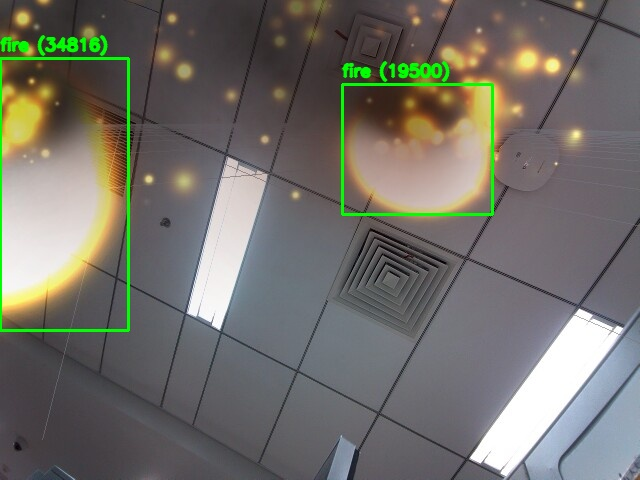fire: (0, 58, 128, 330), (342, 84, 492, 214)
